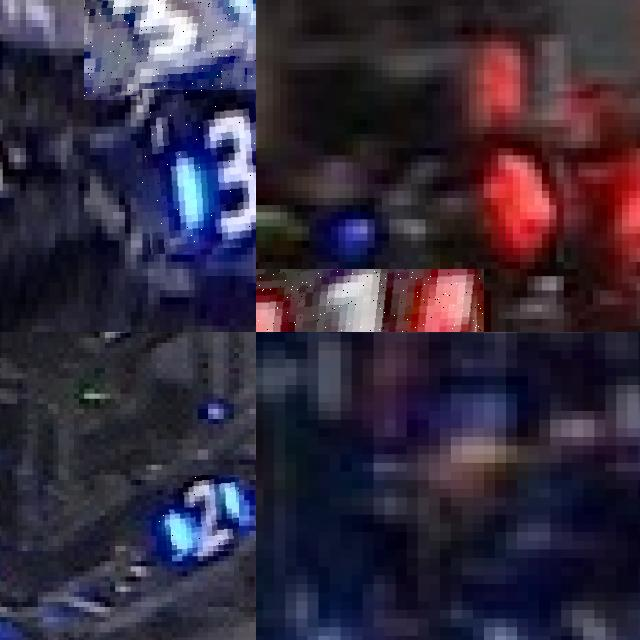B2: (157, 475, 239, 556)
B3: (139, 91, 256, 254), (84, 0, 256, 101)
R1: (256, 269, 483, 332)
